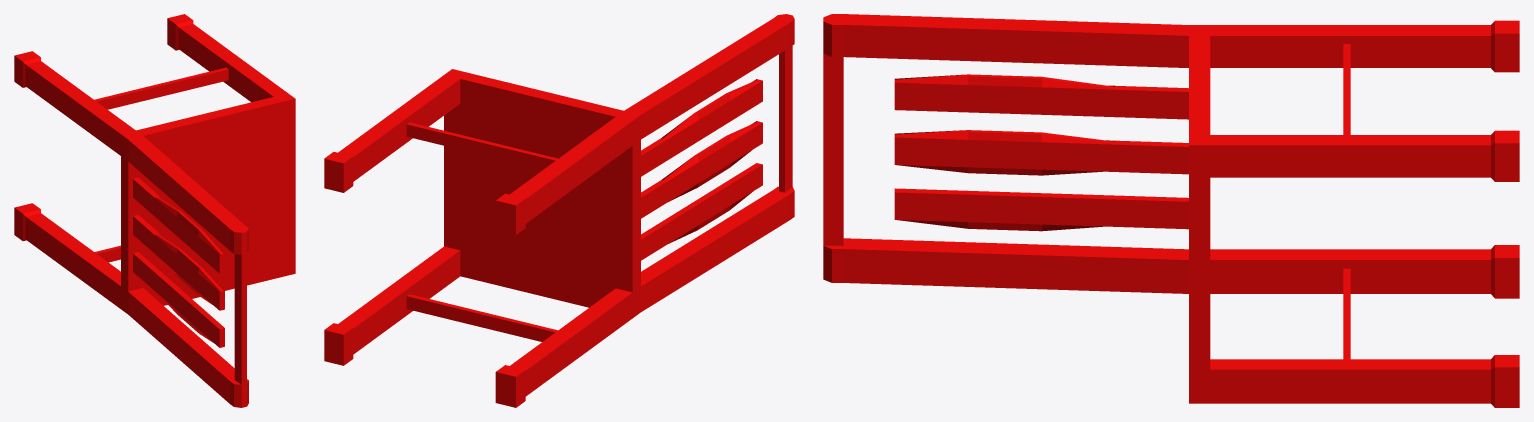
File: my_stul.obj
The picture shows the model from 3 angles, left to right: view 1: azimuth 30°, elevation 25°; view 2: azimuth 150°, elevation 25°; view 3: azimuth 270°, elevation 25°; orthographic projection. The views are drawn at different scales.
Parts seen in each view (by area): view 1: Cube; view 2: Cube; view 3: Cube.
Part boxes in pixels (box(x1,y1,x2,y2)): Cube: box(14, 14, 295, 407); Cube: box(324, 14, 794, 407); Cube: box(823, 14, 1519, 407).
Bounding box in the file's own units: 2.2 × 2.05 × 4.89.
